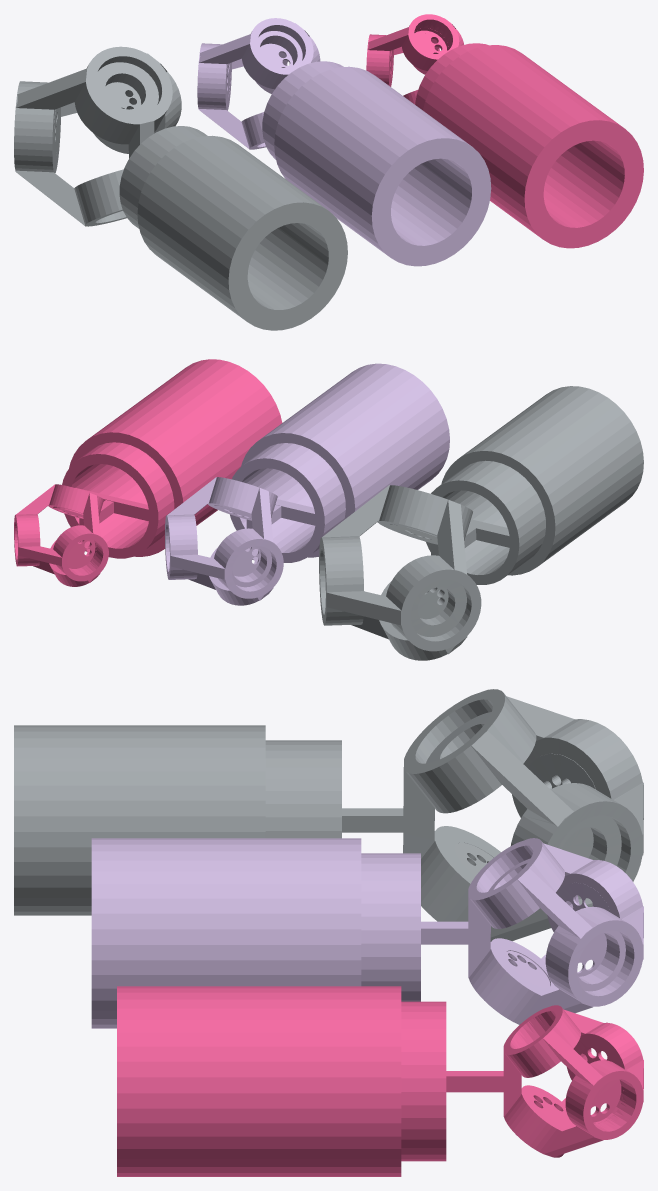
The model's file is tinker.obj.
3 views of the same model, one above another, from view 1: azimuth 30°, elevation 25°; view 2: azimuth 150°, elevation 25°; view 3: azimuth 270°, elevation 25° (orthographic). The views are drawn at different scales.
Parts seen in each view (by area): view 1: group_0_10988977, group_0_13877221, group_0_16345508; view 2: group_0_10988977, group_0_13877221, group_0_16345508; view 3: group_0_10988977, group_0_16345508, group_0_13877221.
Boxes of the visible parts, bbox=[...] form: group_0_10988977: bbox=[14, 46, 347, 330]; group_0_13877221: bbox=[197, 18, 491, 266]; group_0_16345508: bbox=[366, 14, 643, 248]; group_0_10988977: bbox=[319, 386, 643, 660]; group_0_13877221: bbox=[165, 363, 449, 605]; group_0_16345508: bbox=[14, 359, 282, 586]; group_0_10988977: bbox=[14, 689, 643, 941]; group_0_16345508: bbox=[117, 986, 643, 1176]; group_0_13877221: bbox=[91, 838, 643, 1028].
Bounding box in the file's own units: 99.67 × 35.42 × 82.62.
